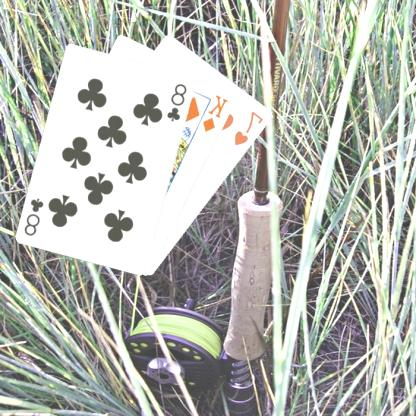7H: (233, 108, 267, 147)
8C: (166, 80, 190, 123), (23, 195, 47, 237)
KD: (201, 92, 232, 134)
